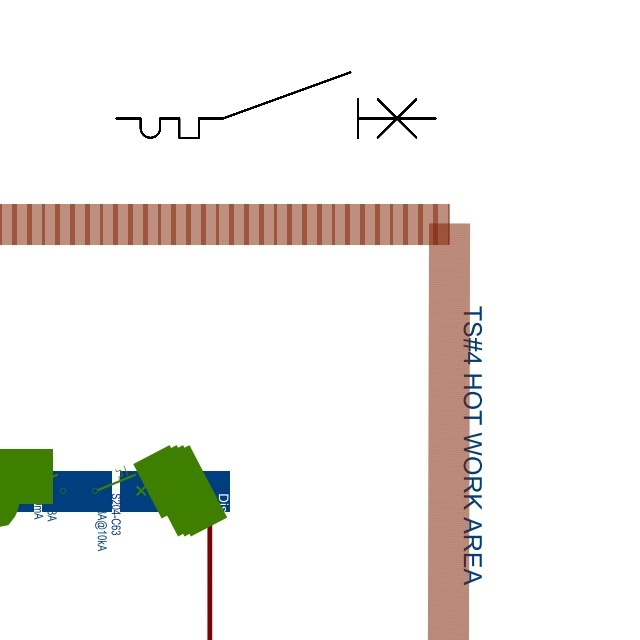interruptor_termomagnetico: (108, 64, 444, 146)
